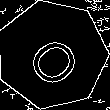O_NE: (18, 23, 86, 87)
